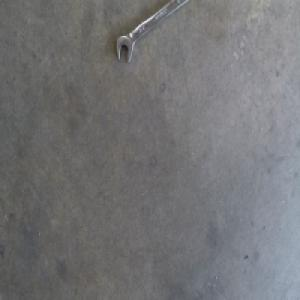Wrench: (116, 0, 185, 62)
